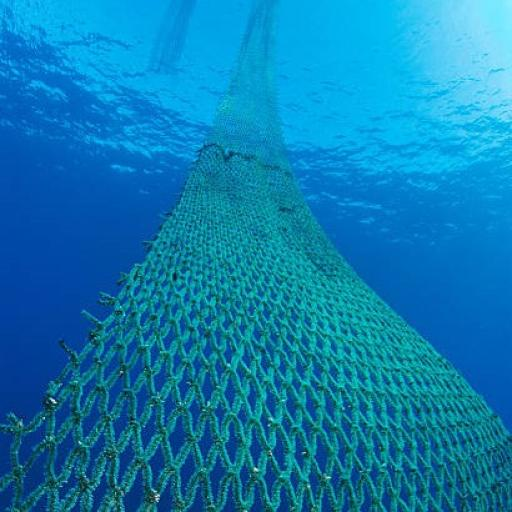net: (3, 135, 512, 508)
